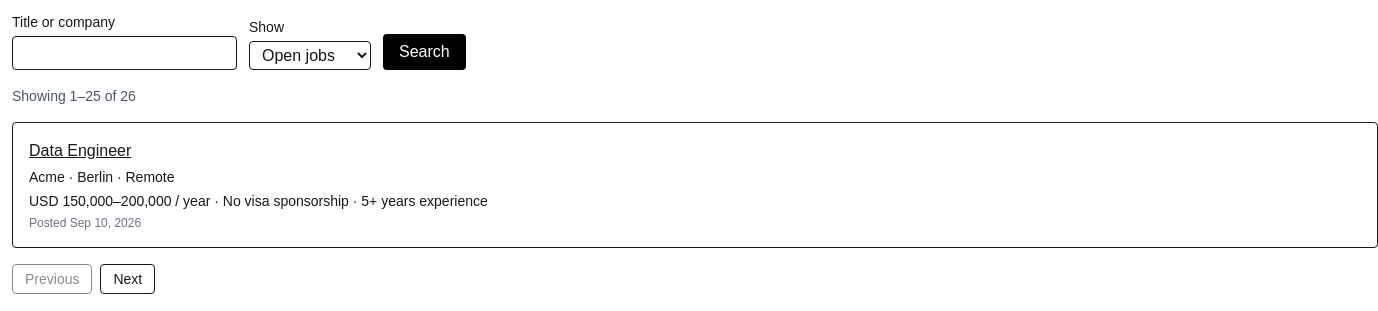
Test: JobsClient › pages through results
Check: the text "Showing 1–25 of 26" is shown, box [12,88,136,104]
Check: the button "Previous" is disabled, box [12,264,92,294]
Click the button "Next" at (128, 279), box [100,264,155,294]
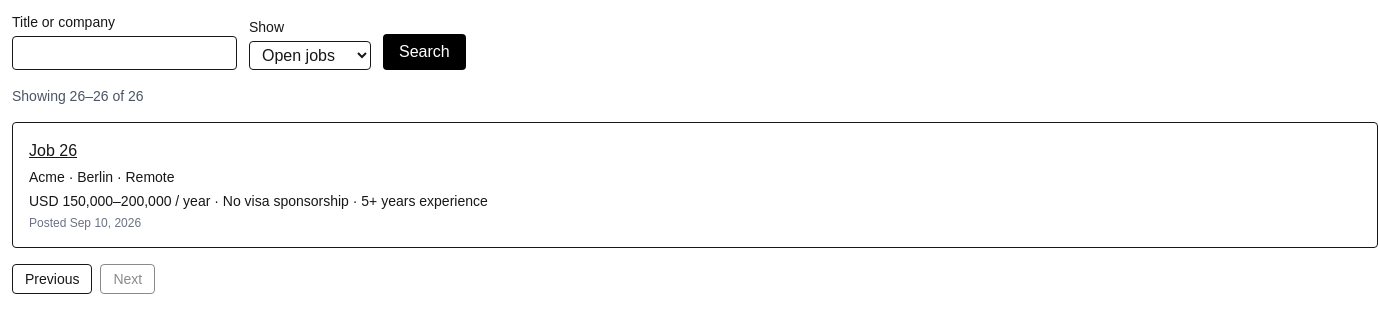
Check: the text "Showing 26–26 of 26" is shown, box [12,88,144,104]
Check: the button "Next" is disabled, box [100,264,155,294]
